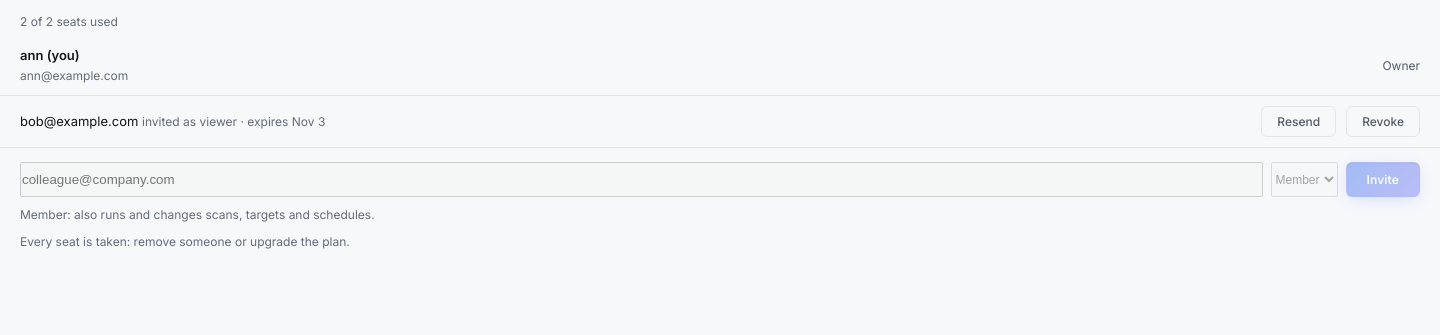
Scenario: a pending invite can be sent again when every seat is taken
Check: the field named "Email to invite" is disabled, box [20,162,1262,197]
Click the button with aria-label "Send bob@example.com a new invite".
click(1299, 122)  # box [1261,106,1336,137]
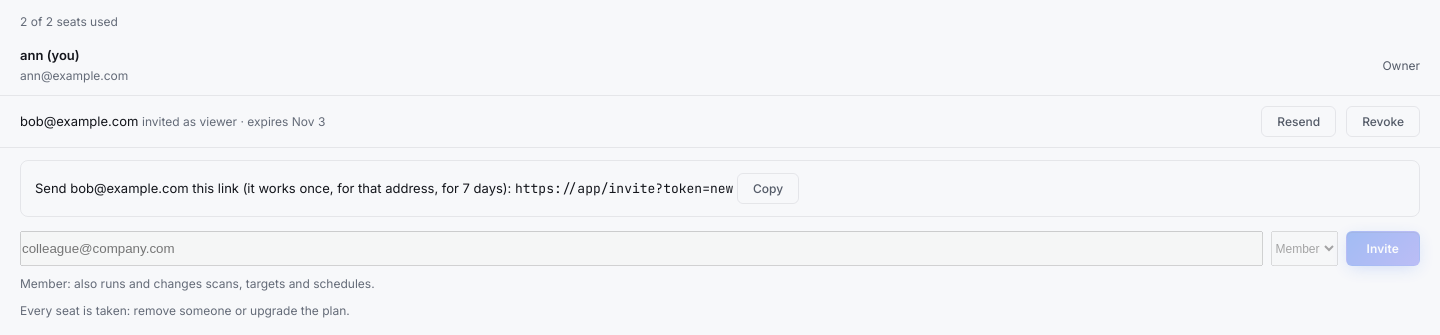
Check: the text "https://app/invite?token=new" is shown, box [515,180,733,197]
